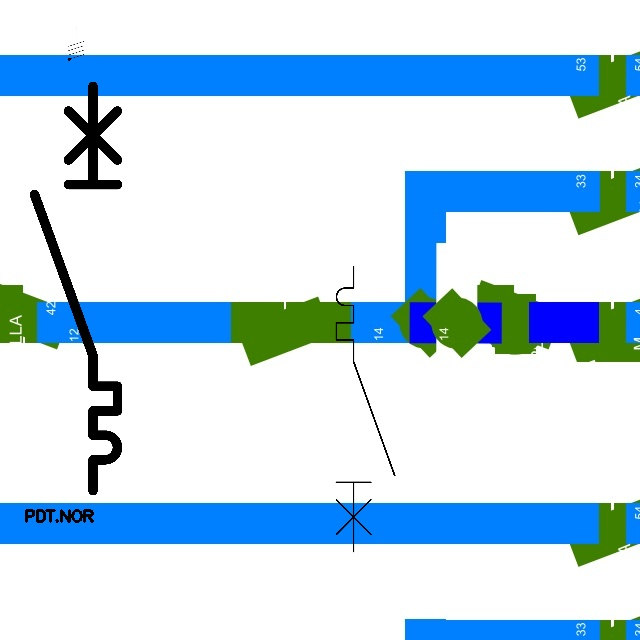interruptor_termomagnetico: (24, 76, 128, 501), (329, 259, 402, 559)
